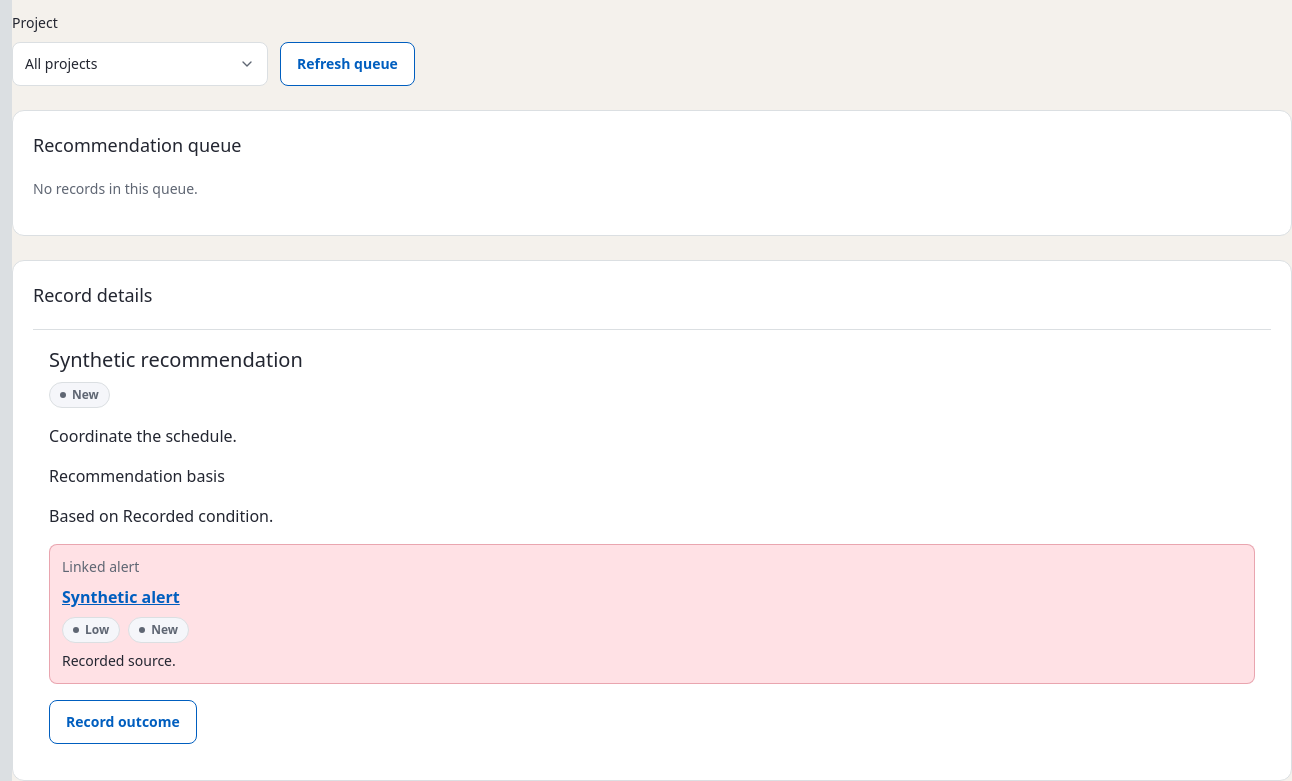
it: linked alert on a recommendation › reads the linked alert for the outcome form only once an outcome is opened by a recorder
(page scrolled)
Expected: the link "Synthetic alert" is shown, [62, 586, 180, 608]
What coordinates should you click on to do the following:
click the button "Record outcome"
I would click on:
 (123, 722)
Its box is [49, 700, 197, 744].
(page scrolled)
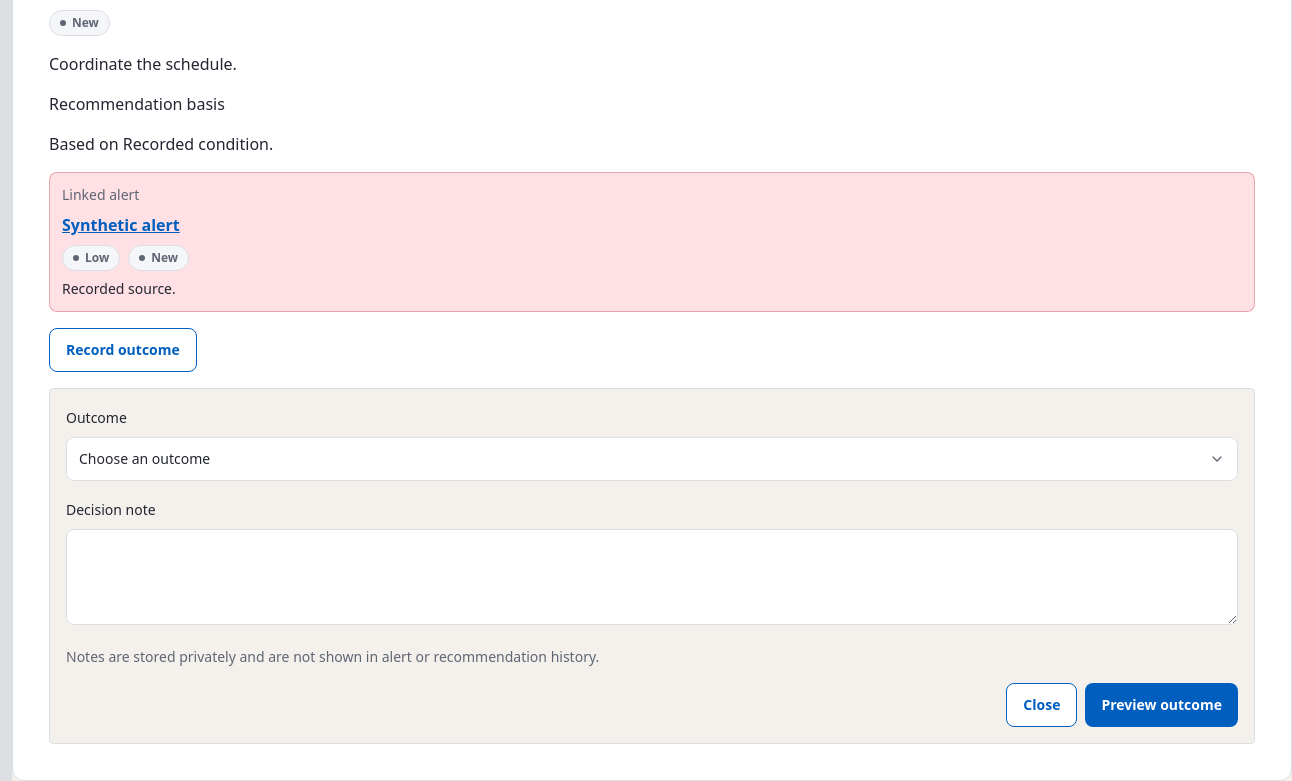
Expected: the button "Close" is shown, [1006, 683, 1078, 727]
